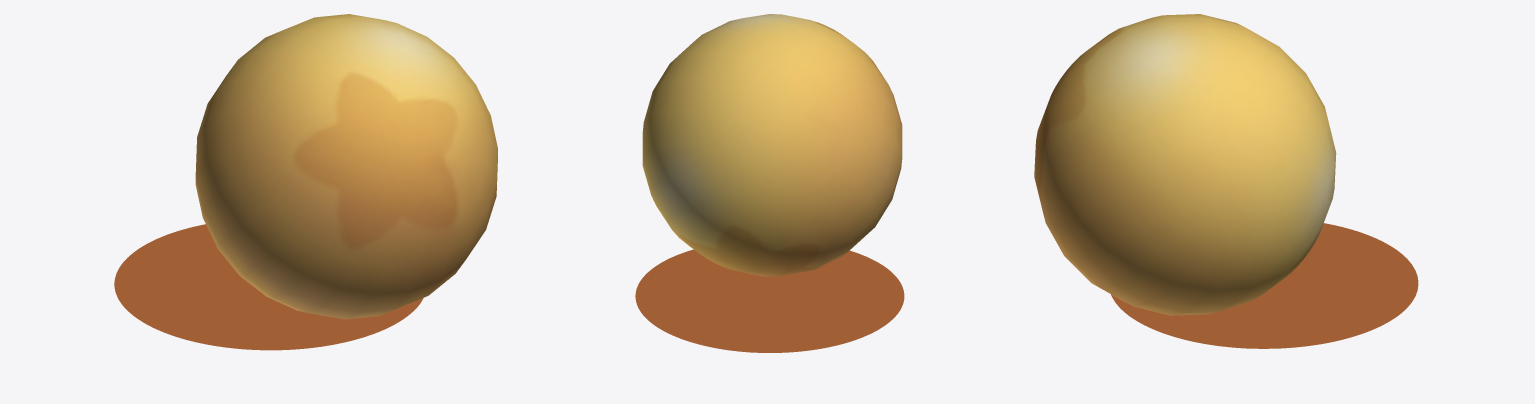
Rendered from 宝宝巴士-主框架-推送地图-游园会-球3.FBX.
The picture shows the model from 3 angles, left to right: view 1: azimuth 30°, elevation 25°; view 2: azimuth 150°, elevation 25°; view 3: azimuth 270°, elevation 25°; orthographic projection. The views are drawn at different scales.
Visible parts, largest first — view 1: 宝宝巴士-主框架-推送地图-游园会-球3; view 2: 宝宝巴士-主框架-推送地图-游园会-球3; view 3: 宝宝巴士-主框架-推送地图-游园会-球3.
Part boxes in pixels (x1,y1,x2,y2): 宝宝巴士-主框架-推送地图-游园会-球3: [114, 14, 497, 350]; 宝宝巴士-主框架-推送地图-游园会-球3: [635, 14, 904, 352]; 宝宝巴士-主框架-推送地图-游园会-球3: [1034, 14, 1418, 348].
Bounding box in the file's own units: 112 × 66.99 × 112.
